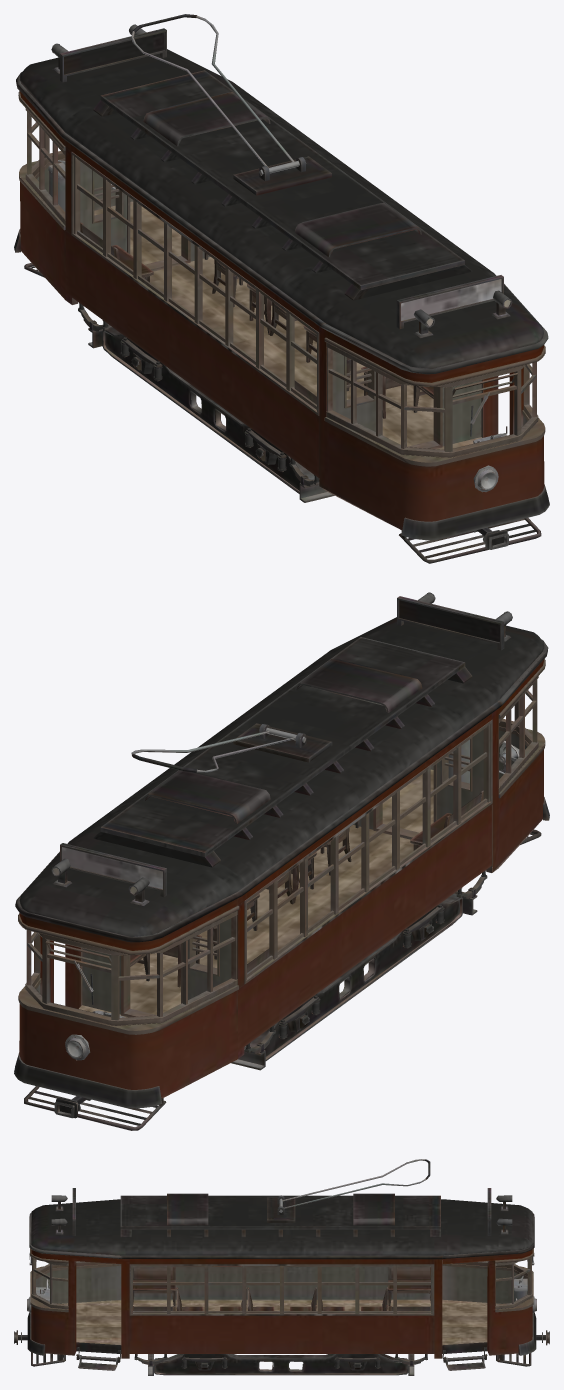
The model's file is tram.glb.
3 renders of one model, top to bottom at view 1: azimuth 30°, elevation 25°; view 2: azimuth 150°, elevation 25°; view 3: azimuth 270°, elevation 25°, orthographic. The views are drawn at different scales.
Parts seen in each view (by area): view 1: Tran_low_default_0; view 2: Tran_low_default_0; view 3: Tran_low_default_0.
Part boxes in pixels (x1,y1,x2,y2): Tran_low_default_0: (14, 14, 549, 563); Tran_low_default_0: (14, 592, 549, 1130); Tran_low_default_0: (14, 1159, 549, 1375).
Bounding box in the file's own units: 3.65 × 5.85 × 15.
1 material, 1 textured.
